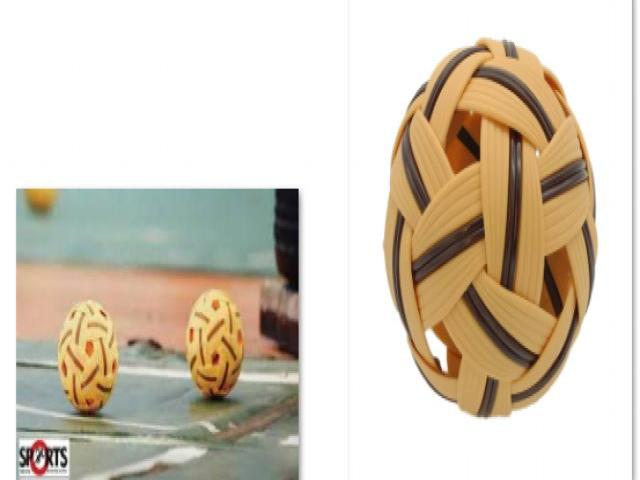round ball: (385, 39, 596, 416), (58, 300, 119, 413), (186, 290, 244, 398)
